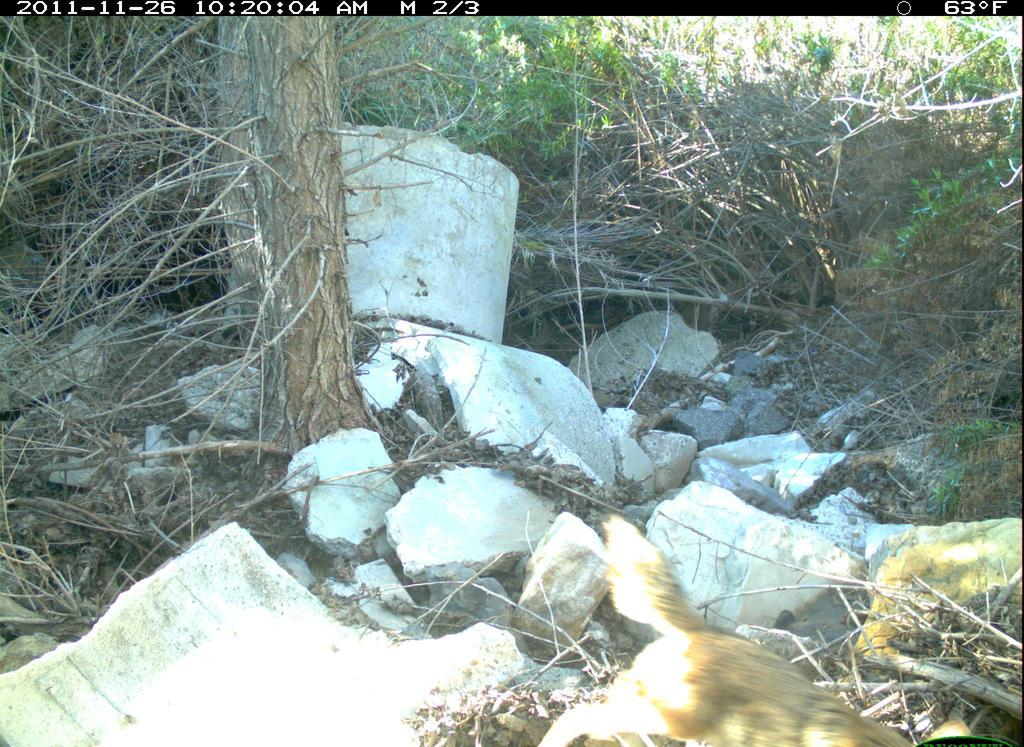coyote: (529, 504, 925, 747)
